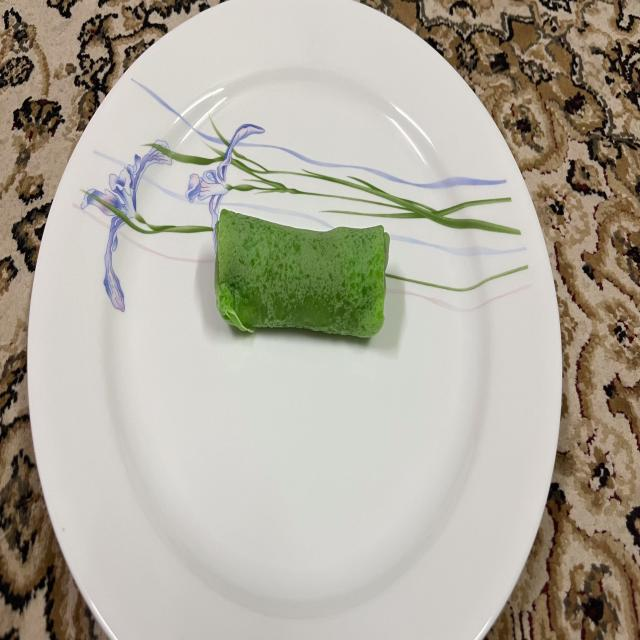Kuih-Ketayap: (215, 209, 390, 338)
